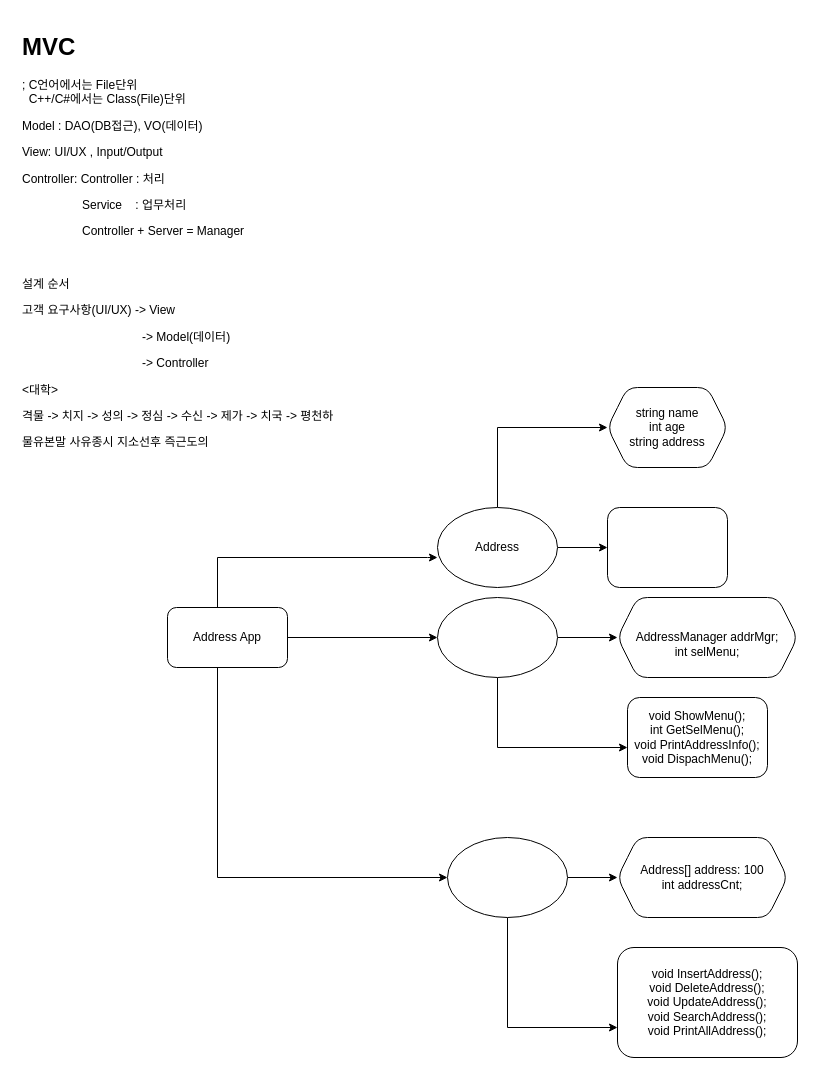
Image size: 815x1075. Some labels were removed from this diagram. The box of each missing label's shape, as (x1, y1, x2, y2) in pixels:
AddressManager: (446, 836, 568, 918)
AddressView: (436, 596, 558, 678)
필드의 getter/setter: (606, 506, 728, 588)
